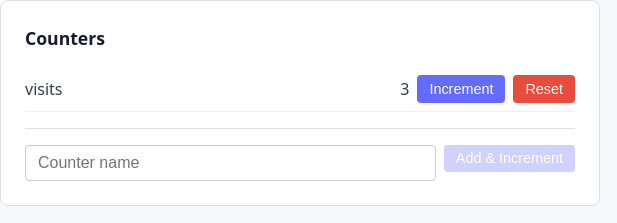
Test case: CounterWidget — list view › Counter already in list: Add & Increment updates existing row
Check: the text "visits" is shown, box 25,78 -> 62,100
Type "visits" into the field named "New counter name" at (230, 163), box 25,145 -> 436,181
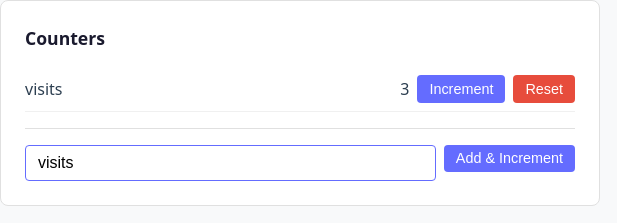
Click the button labelled "Add & Increment" at (509, 158), box 444,145 -> 575,172
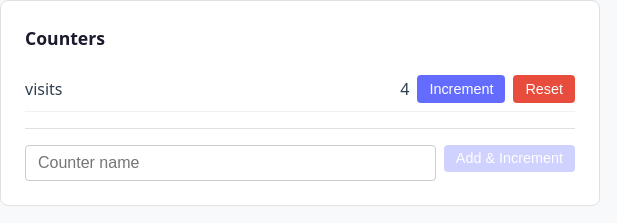
Check: the text "visits" is shown once, box 25,78 -> 62,100
Check: the text named "visits value" reads "4", box 400,78 -> 410,100
